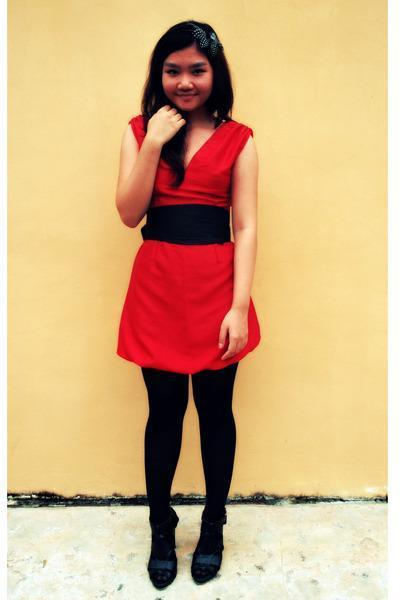dress: (117, 93, 260, 395)
shoe: (147, 543, 221, 590)
